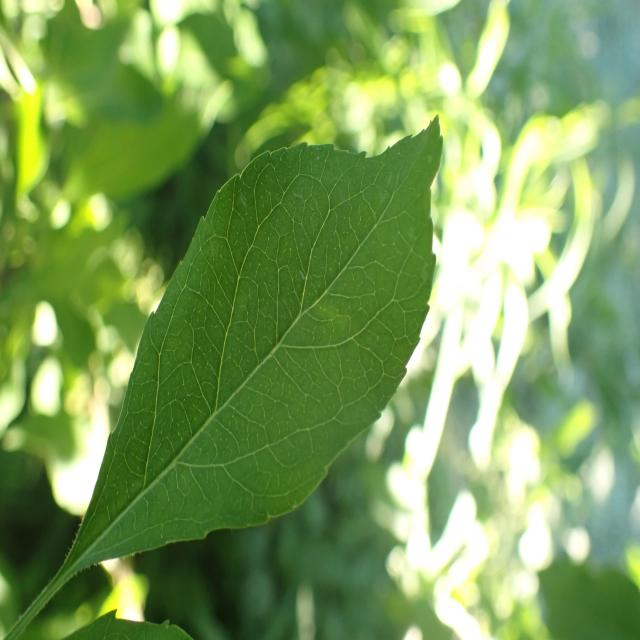healthy: (64, 114, 445, 574)
